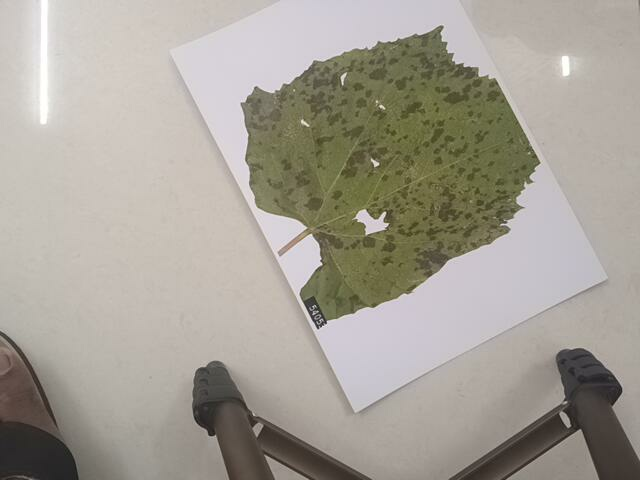Grape_Blight_Leaf: (237, 23, 568, 326)
